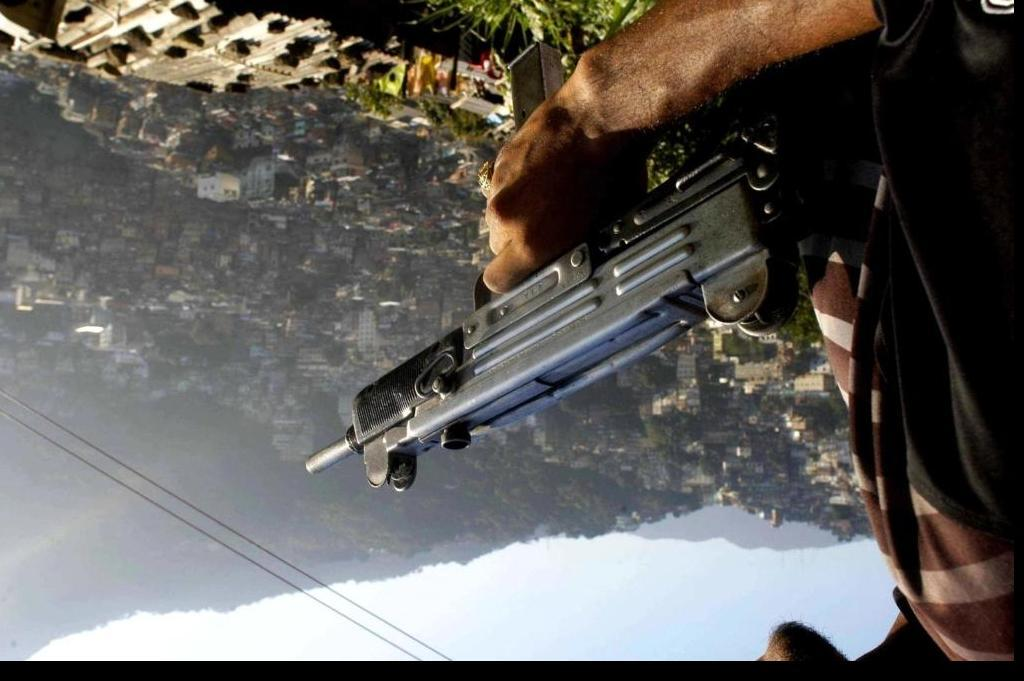larga: (303, 119, 800, 494)
